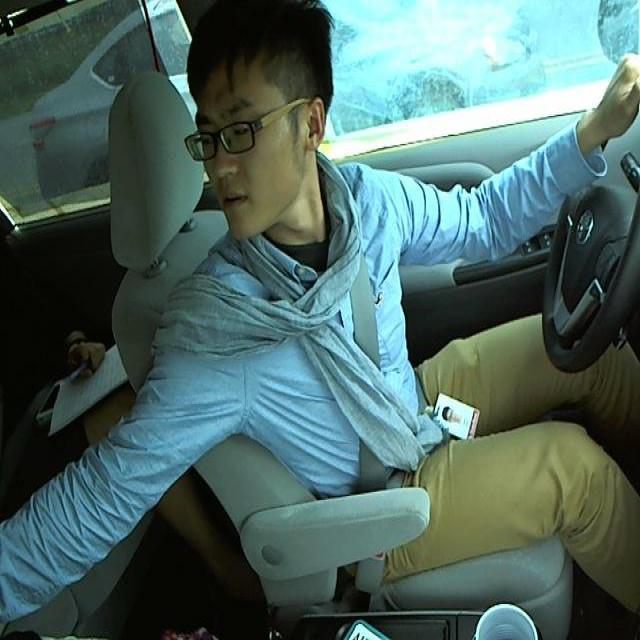seatbelt: (336, 215, 404, 484)
